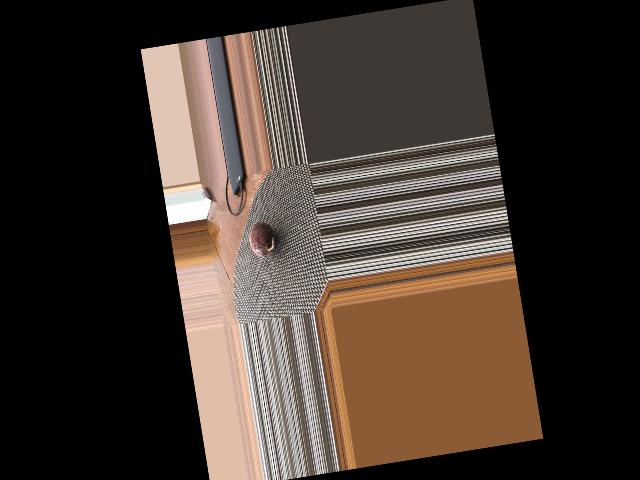beet: (247, 219, 278, 257)
